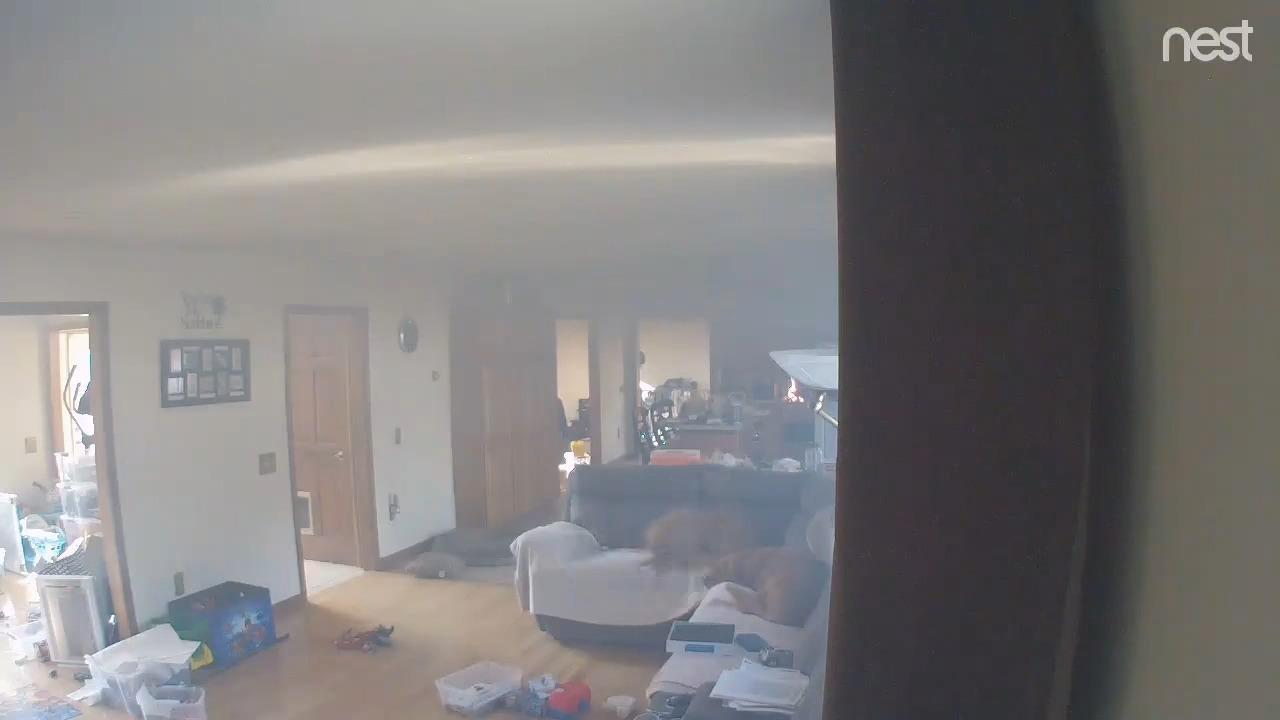fire: (784, 376, 804, 402)
